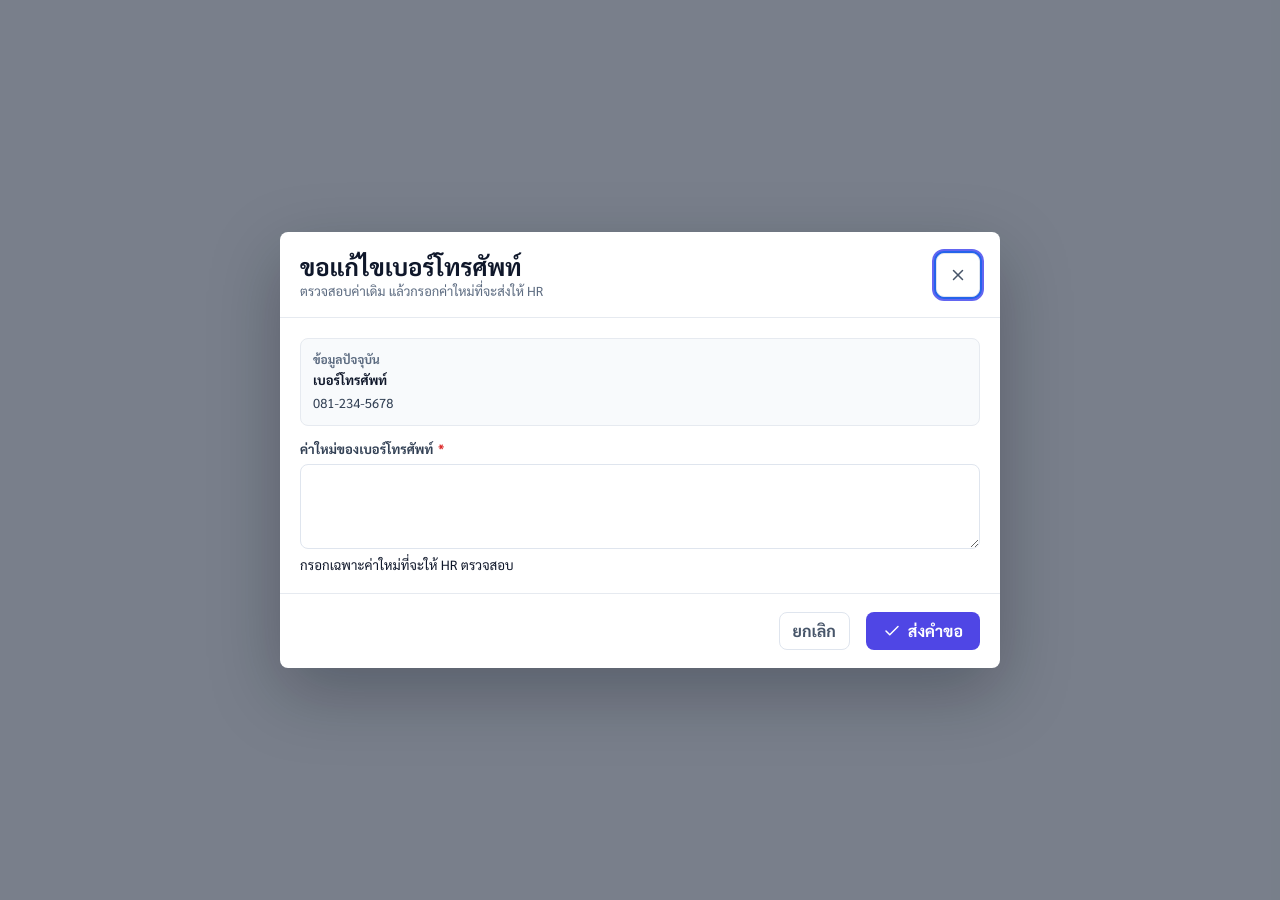
ChangeRequestModal form validation › blocks submit when the new value is empty
Click the button "ส่งคำขอ" at (923, 631), box [866, 612, 980, 650]
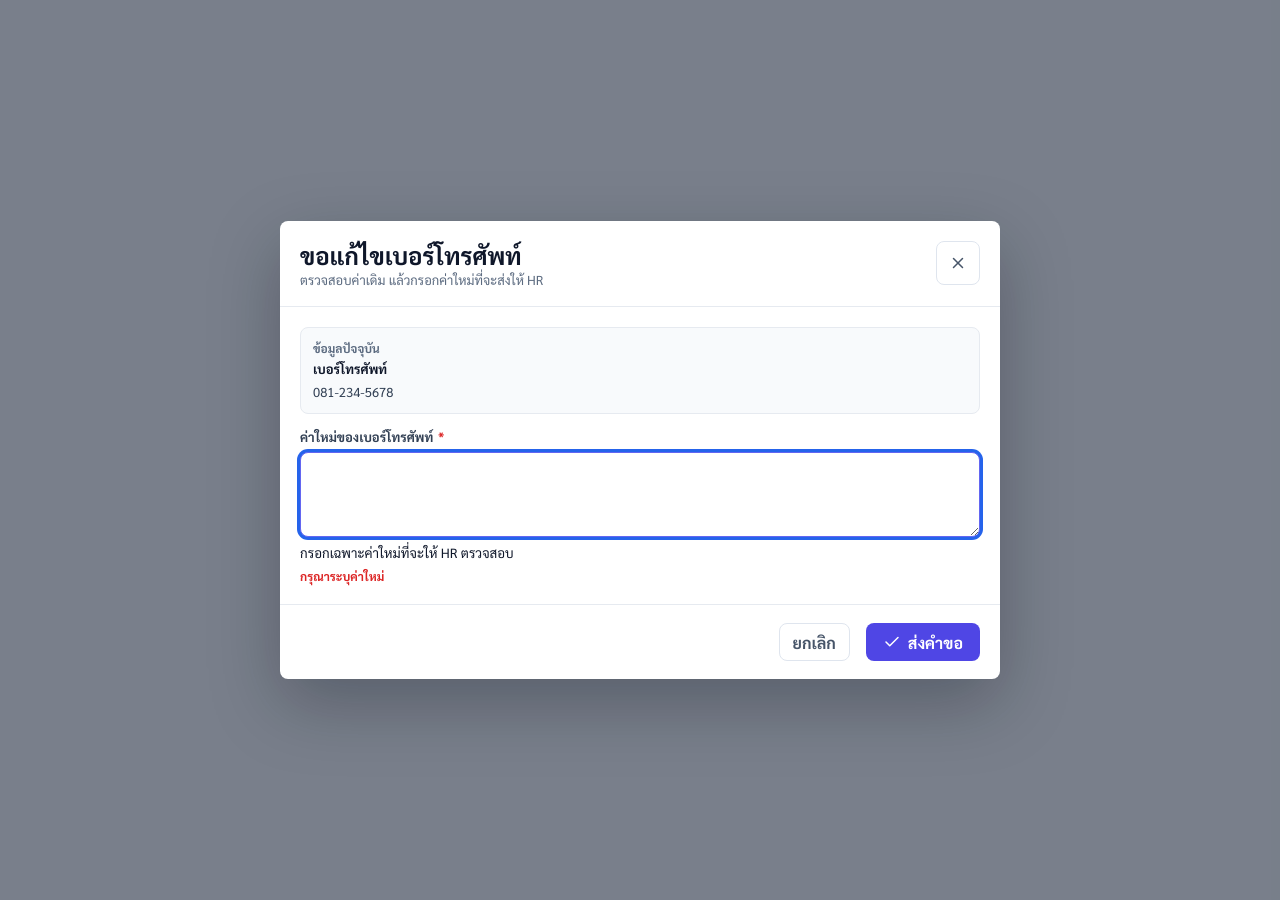
Expected: the text "กรุณาระบุค่าใหม่" is shown, [300, 568, 384, 584]
